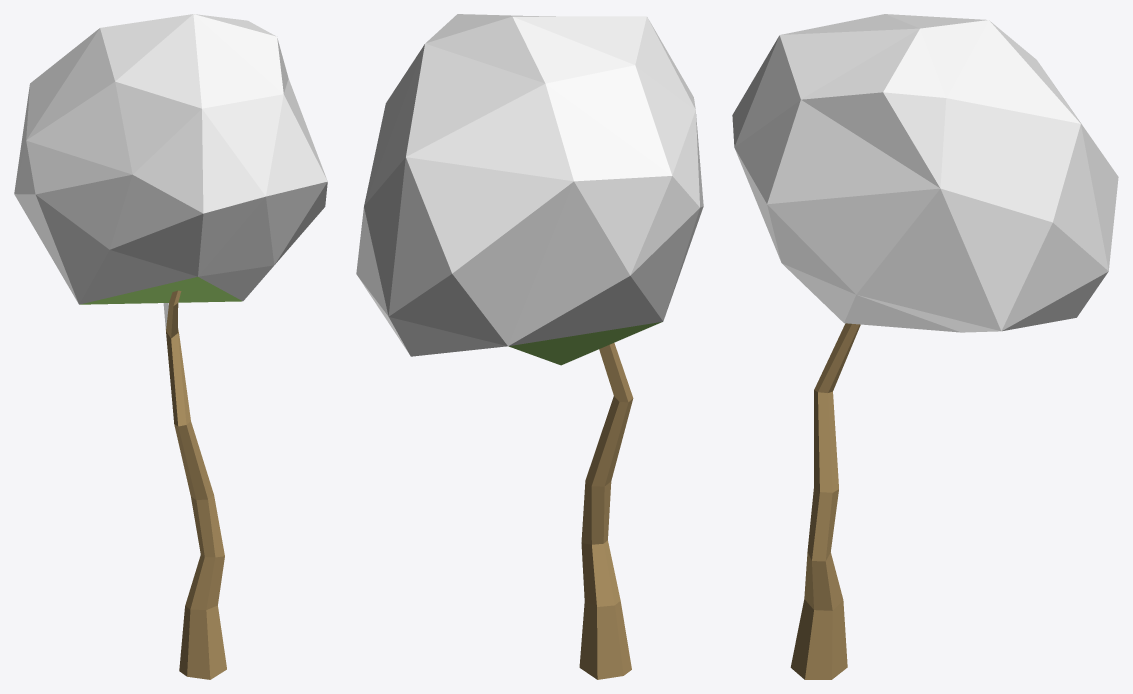
Rendered from Oak_Tree_m_Snow_05.fbx.
3 views of the same model, side by side, from view 1: azimuth 30°, elevation 25°; view 2: azimuth 150°, elevation 25°; view 3: azimuth 270°, elevation 25° (orthographic). The views are drawn at different scales.
Parts seen in each view (by area): view 1: Oak_Tree_m_Snow_05; view 2: Oak_Tree_m_Snow_05; view 3: Oak_Tree_m_Snow_05.
Part boxes in pixels (x1,y1,x2,y2): Oak_Tree_m_Snow_05: (14,14,327,679); Oak_Tree_m_Snow_05: (356,14,703,679); Oak_Tree_m_Snow_05: (732,14,1118,679).
Size of the model in its own units: 354 by 771 by 408.
